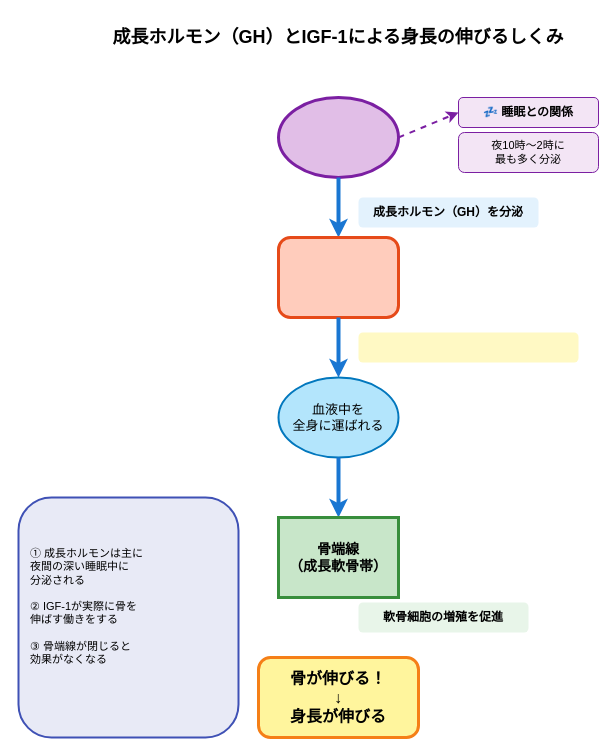
This 616x756 diagram has some shape labels left out. Each missing label, with the box of its shape:
IGF-1（ソマトメジンC）を産生: (358, 332, 578, 362)
肝臓: (276, 236, 400, 318)
脳下垂体: (276, 96, 400, 178)
重要ポイント: (17, 496, 239, 738)
